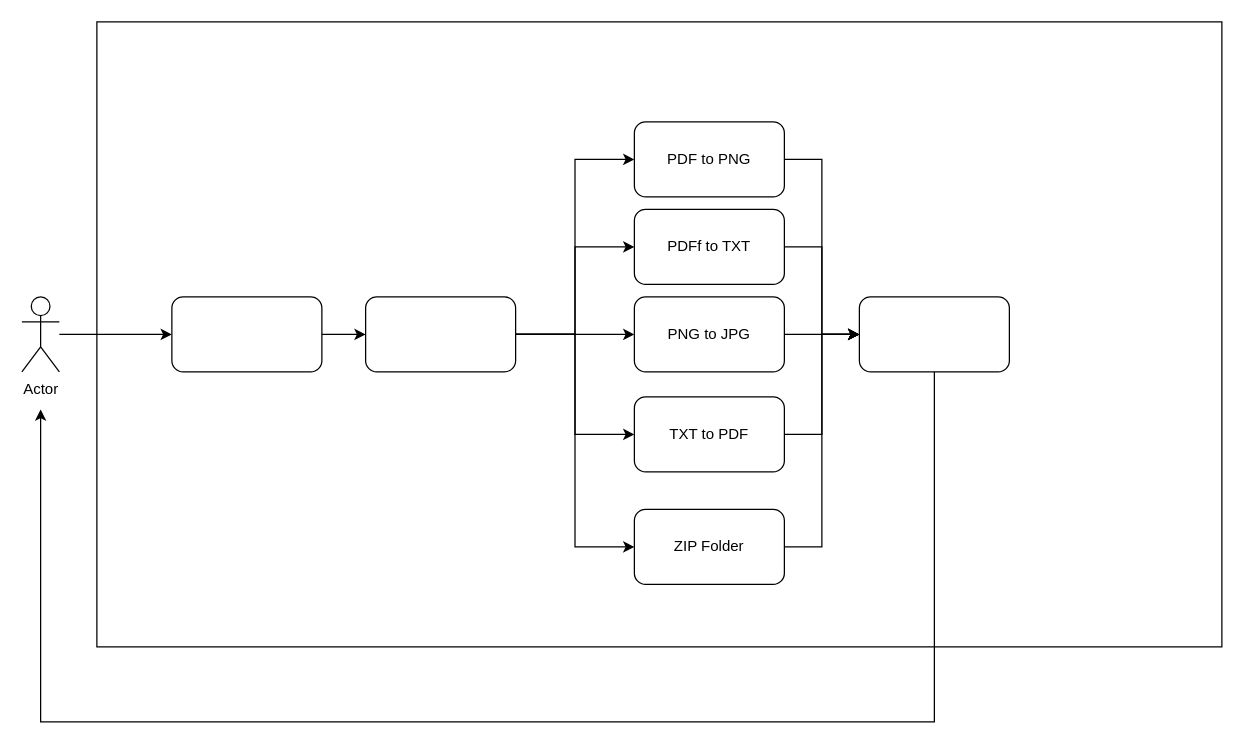
The diagram is 1244 pixels wide and 754 high, and some of its shapes have lost their labels. The shapes that lost their labels are listed below. From the top down, each one's centre as x and y in pixels, then its label:
At point 246,334: "Insert File".
At point 440,334: "Select Converting Method".
At point 933,334: "Output of Converted File".
